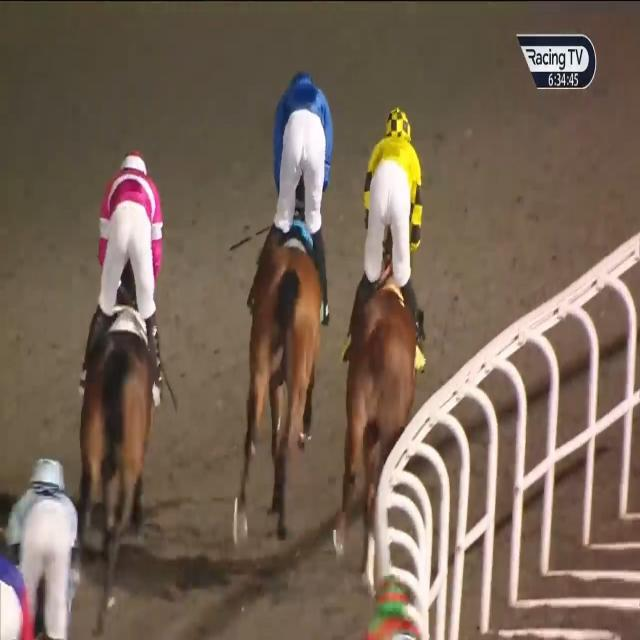horses-racing: (230, 63, 328, 553), (81, 140, 157, 582), (351, 92, 422, 543), (12, 456, 72, 640)
